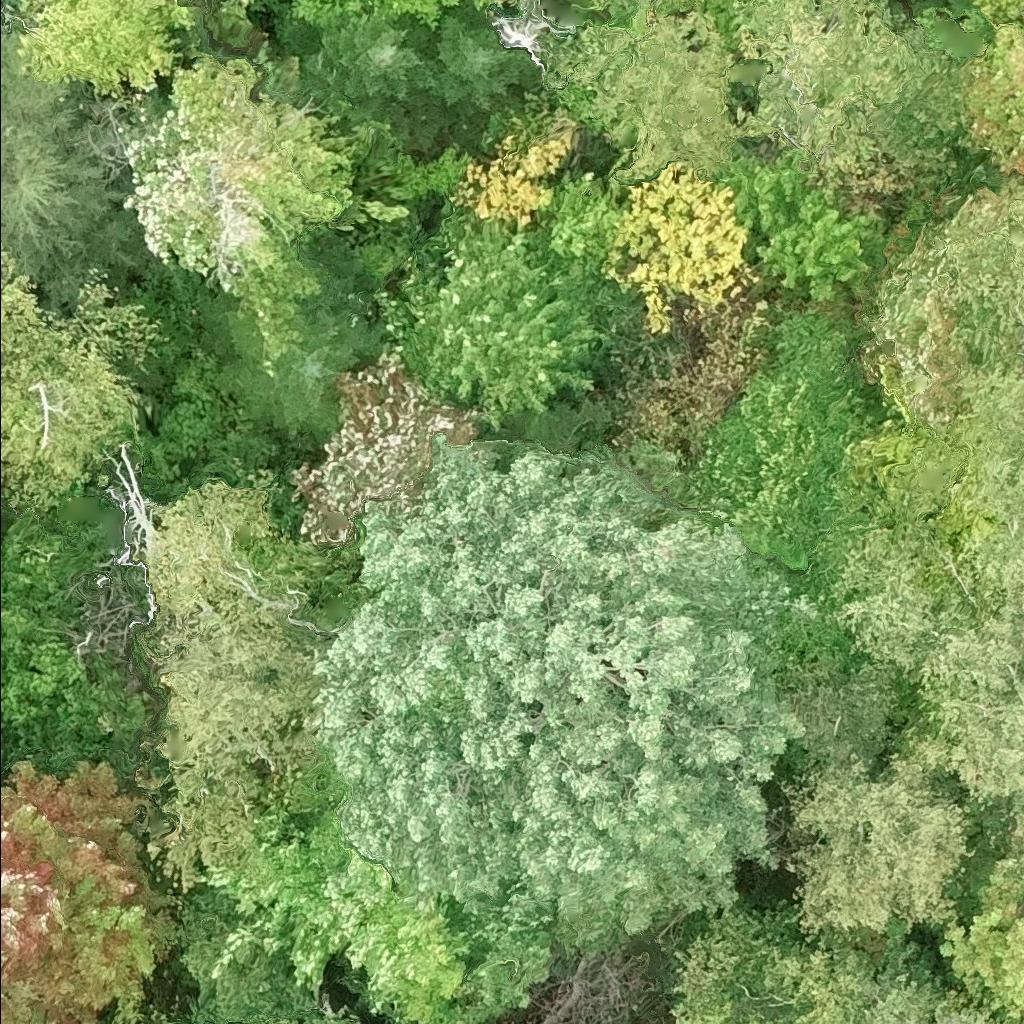crown: (308, 431, 820, 951), (117, 50, 371, 371), (143, 477, 331, 901), (200, 798, 482, 1023), (373, 211, 615, 433), (0, 758, 177, 1023), (0, 264, 177, 512), (0, 493, 150, 784), (667, 891, 995, 1023), (0, 28, 151, 309), (778, 746, 980, 944), (288, 347, 482, 547), (871, 173, 1023, 416), (728, 0, 941, 165), (551, 8, 744, 186), (888, 602, 1023, 851), (709, 138, 882, 302), (918, 362, 1023, 617), (597, 159, 749, 333), (829, 505, 966, 677), (217, 300, 381, 441), (288, 6, 443, 153), (12, 0, 198, 96), (935, 845, 1023, 1023), (452, 121, 574, 232), (426, 12, 532, 126), (254, 0, 463, 57), (954, 21, 1023, 182), (529, 169, 624, 280), (491, 0, 576, 75), (0, 239, 43, 357), (267, 1009, 348, 1023), (469, 0, 512, 11), (229, 1021, 256, 1023), (348, 1021, 352, 1023)
